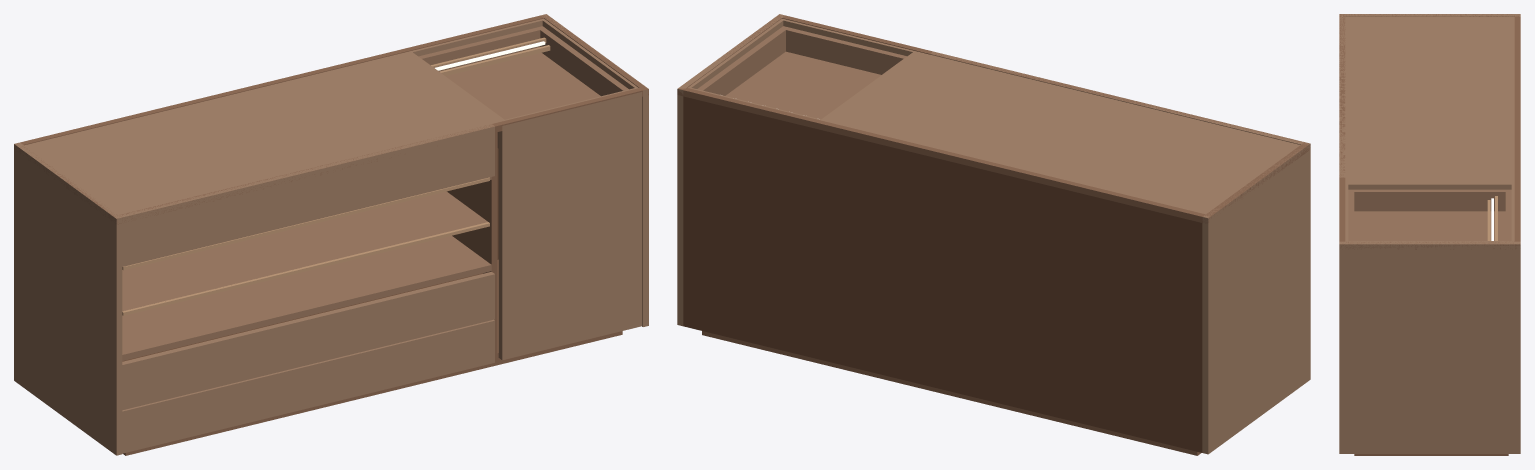
Rendered from tumba_3d_model.glb.
3 views of the same model, side by side, from view 1: azimuth 30°, elevation 25°; view 2: azimuth 150°, elevation 25°; view 3: azimuth 270°, elevation 25° (orthographic). The views are drawn at different scales.
Parts seen in each view (by area): view 1: main_top_surface, right_full_height_door, left_side_panel, upper_front_panel, upper_drawer_front, lower_drawer_front, niche_floor, niche_shelf, cavity_floor, module_divider, top_back_rim, cavity_right_wall (+11 smaller); view 2: rear_panel, main_top_surface, left_side_panel, cavity_floor, top_back_rim, cavity_front_wall, plinth, right_side_panel, cavity_right_wall, top_front_rim, upper_front_panel, cavity_front_rim (+3 smaller); view 3: right_side_panel, main_top_surface, cavity_floor, cavity_left_wall, cavity_left_rim, top_back_rim, top_front_rim, upper_front_panel, left_side_panel, top_right_rim, cavity_front_wall, cavity_back_wall (+4 smaller).
Part boxes in pixels (box(x1,y1,x2,y2)): main_top_surface: box(24, 53, 496, 214); right_full_height_door: box(498, 92, 642, 360); left_side_panel: box(14, 142, 122, 455); upper_front_panel: box(119, 124, 494, 266); upper_drawer_front: box(122, 271, 494, 410); lower_drawer_front: box(122, 319, 494, 453); niche_floor: box(122, 235, 491, 360); niche_shelf: box(122, 191, 487, 311); cavity_floor: box(446, 52, 600, 148); module_divider: box(447, 132, 497, 359); top_back_rim: box(14, 14, 549, 149); cavity_right_wall: box(537, 26, 628, 96); rear_panel: box(683, 96, 1202, 452); main_top_surface: box(829, 53, 1299, 214); left_side_panel: box(1202, 142, 1310, 454); cavity_floor: box(725, 51, 880, 119); top_back_rim: box(677, 88, 1211, 223); cavity_front_wall: box(786, 27, 906, 74); plinth: box(702, 331, 1201, 455); right_side_panel: box(677, 14, 784, 326); cavity_right_wall: box(697, 26, 788, 95); top_front_rim: box(777, 14, 1310, 151); upper_front_panel: box(929, 51, 1303, 144); cavity_front_rim: box(783, 19, 914, 56); right_side_panel: box(1339, 241, 1520, 453); main_top_surface: box(1345, 17, 1514, 180); cavity_floor: box(1354, 211, 1505, 240); cavity_left_wall: box(1348, 189, 1511, 211); cavity_left_rim: box(1345, 180, 1514, 189); top_back_rim: box(1514, 14, 1520, 249); top_front_rim: box(1339, 14, 1345, 249); upper_front_panel: box(1339, 16, 1345, 177); left_side_panel: box(1339, 14, 1520, 16); top_right_rim: box(1345, 241, 1514, 249); cavity_front_wall: box(1348, 192, 1354, 240); cavity_back_wall: box(1505, 192, 1511, 240).
Bounding box in the file's own units: 1.8 × 0.8 × 0.6.
